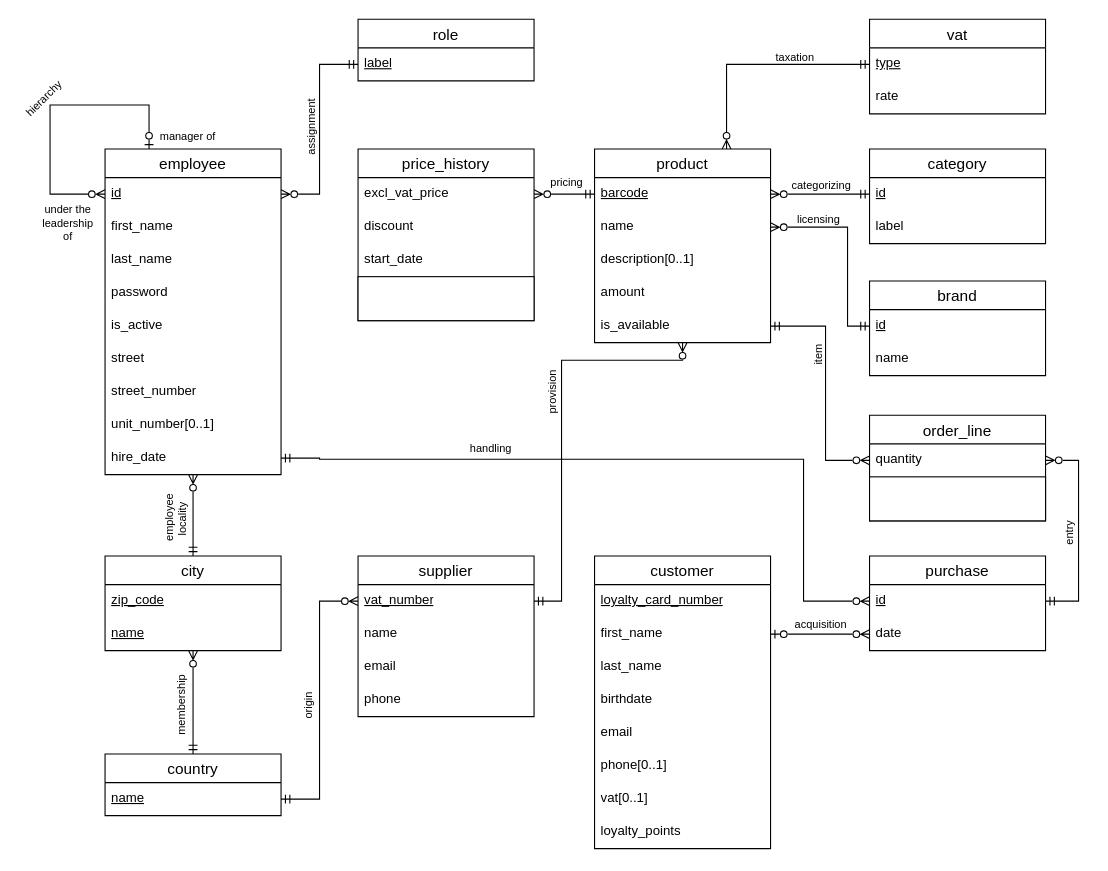
Some shapes in this 1108 by 871 pixel diagram are drawn without their labels. Here are the shapes that lost their labels. From the top down, the centre of each, then its label:
the point at 445,298: id (priceHistory) : product, start_date
the point at 957,498: id (order_line) : purchase, product
